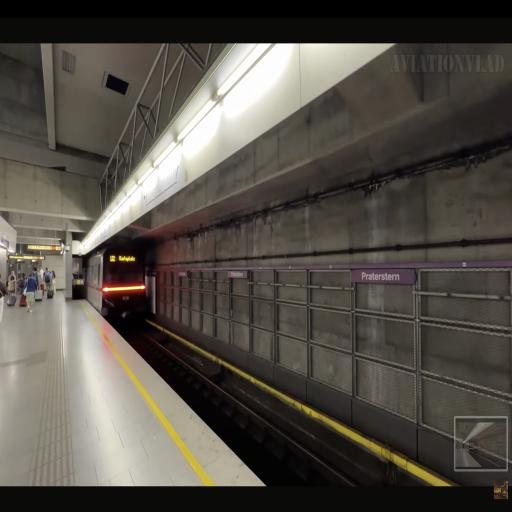X-Wagen: (86, 244, 150, 326)
